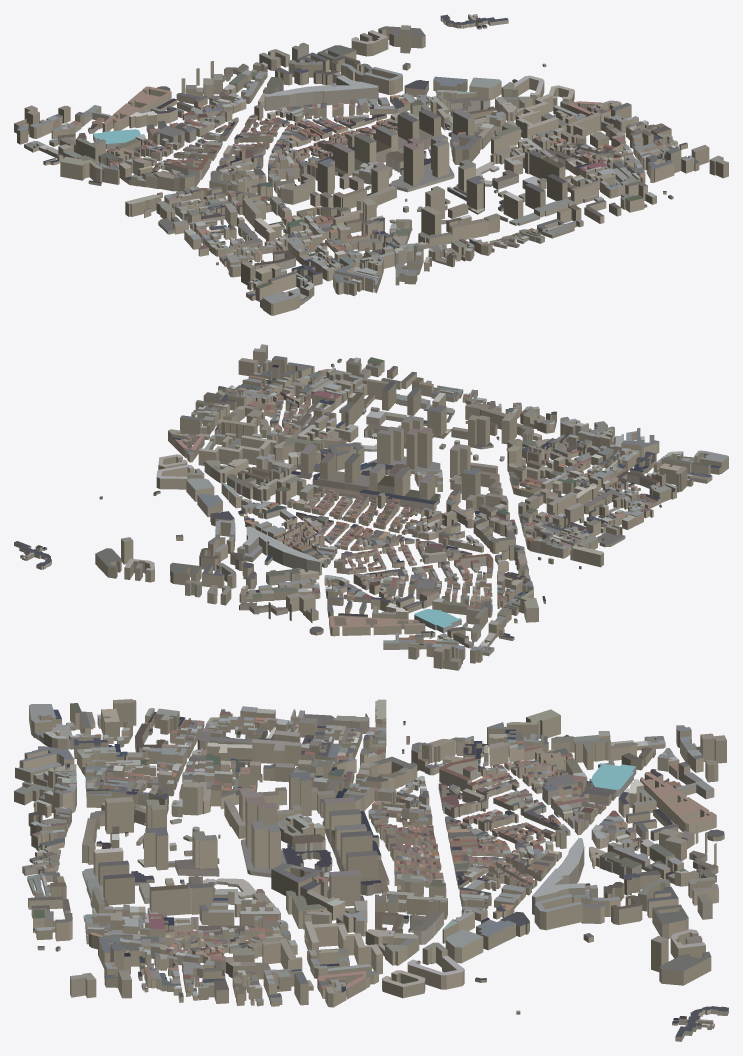
3 renders of one model, top to bottom at view 1: azimuth 30°, elevation 25°; view 2: azimuth 150°, elevation 25°; view 3: azimuth 270°, elevation 25°, orthographic. The views are drawn at different scales.
Visible parts, largest first — view 1: tuile; view 2: tuile; view 3: tuile.
Part boxes in pixels (<box>): tuile: <box>14,14,728,315</box>; tuile: <box>14,344,728,670</box>; tuile: <box>14,699,728,1041</box>.
Size of the model in its own units: 1068 by 135 by 1046.
